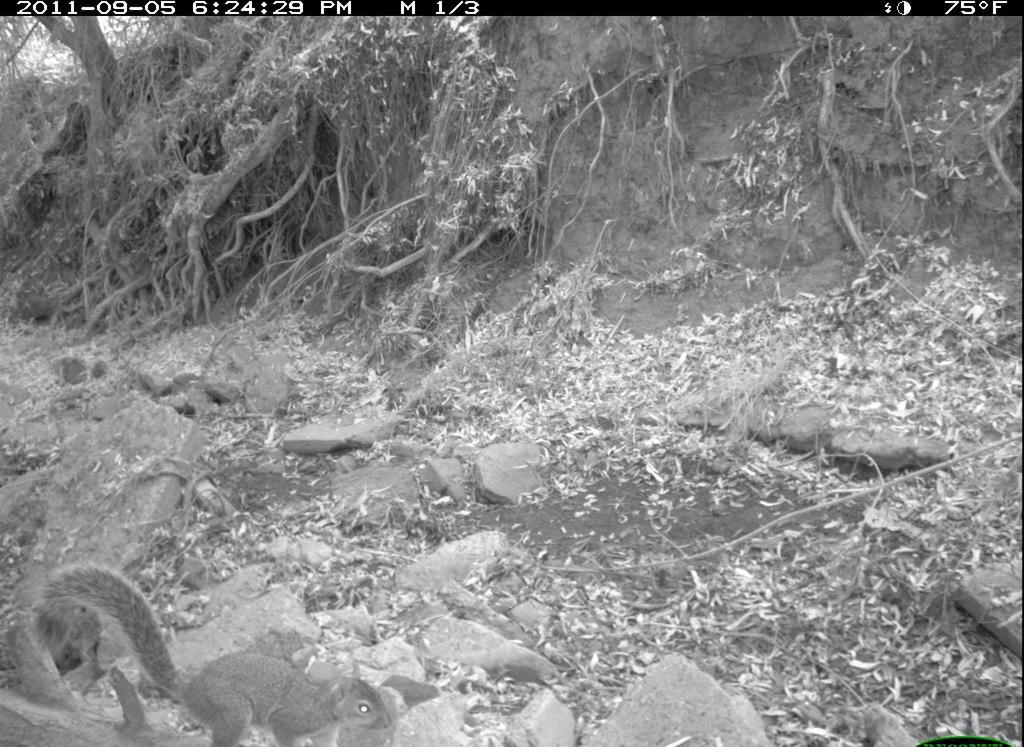squirrel: (16, 550, 401, 742)
